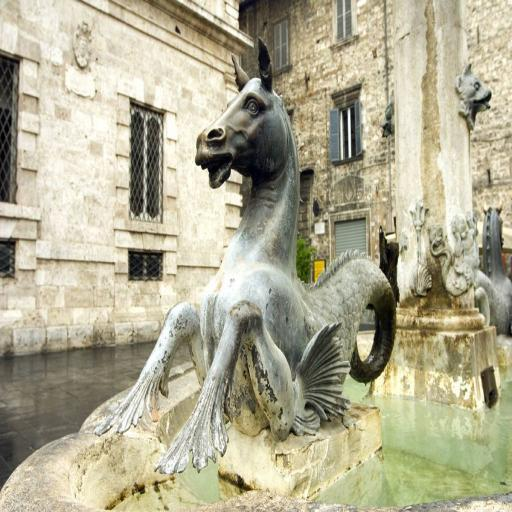horse: (94, 36, 396, 476)
